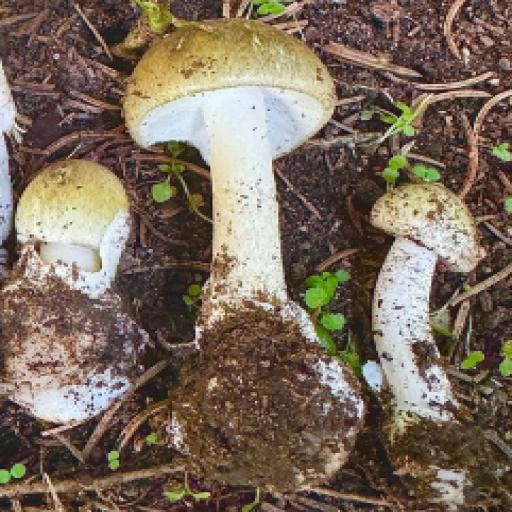mushroom: (111, 4, 372, 512), (341, 183, 500, 501), (0, 159, 137, 421)
